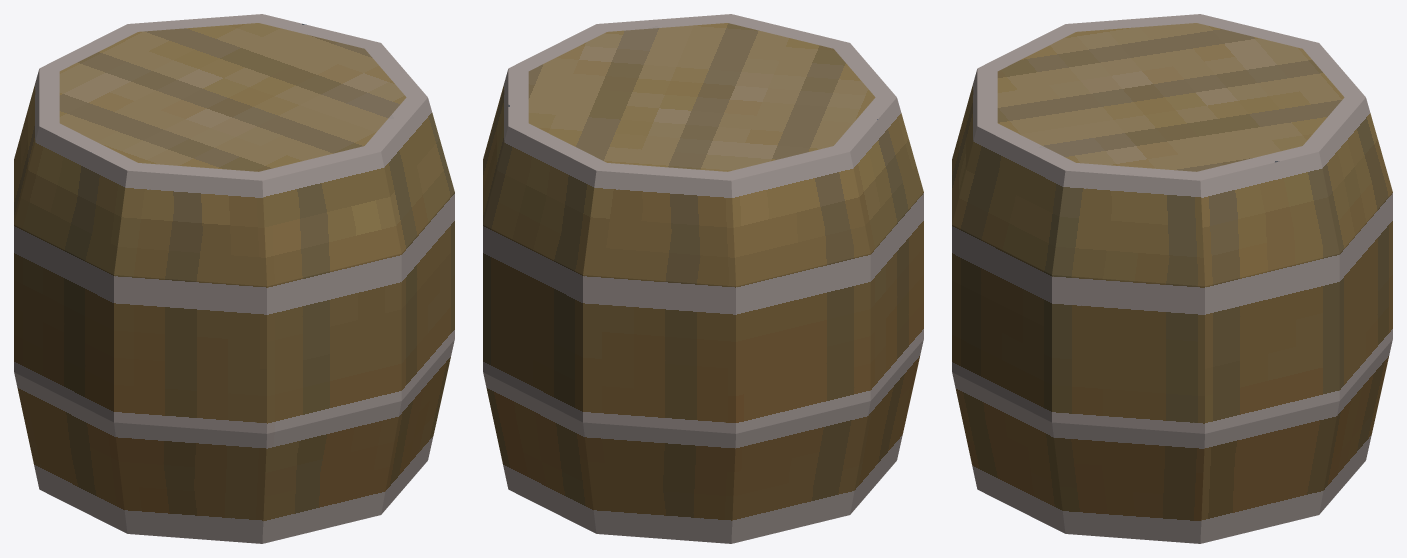
Rendered from export_less_terrible_barrel.fbx.
The picture shows the model from 3 angles, left to right: view 1: azimuth 30°, elevation 25°; view 2: azimuth 150°, elevation 25°; view 3: azimuth 270°, elevation 25°; orthographic projection.
Parts seen in each view (by area): view 1: Barrel; view 2: Barrel; view 3: Barrel.
Part boxes in pixels (left/top/right/bottom): Barrel: left=14, top=14, right=454, bottom=543; Barrel: left=483, top=14, right=923, bottom=543; Barrel: left=952, top=14, right=1392, bottom=543.
Size of the model in its own units: 0.5584 by 0.5 by 0.5499.
